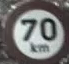Speed limit: (7, 4, 62, 59)
